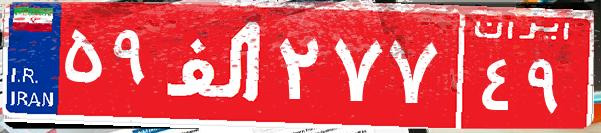2: (273, 28, 330, 110)
4: (475, 38, 525, 113)
5: (57, 26, 110, 107)
7: (385, 28, 445, 110), (330, 28, 385, 110)
9: (110, 28, 158, 105), (525, 38, 570, 115)
الف: (158, 15, 273, 115)
